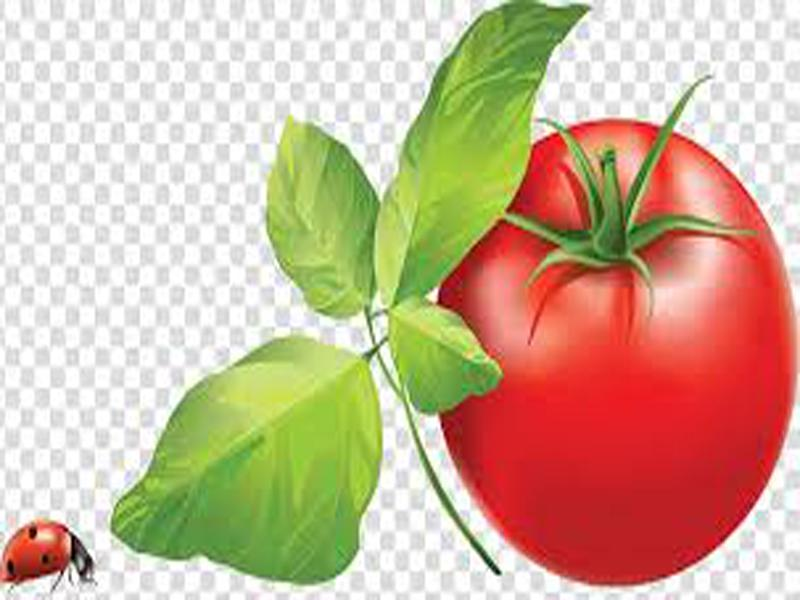Tomato: (437, 119, 796, 586)
